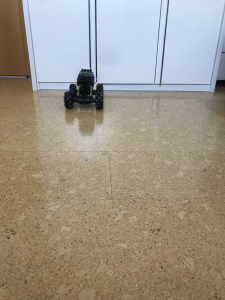remote control car: (63, 67, 105, 111)
